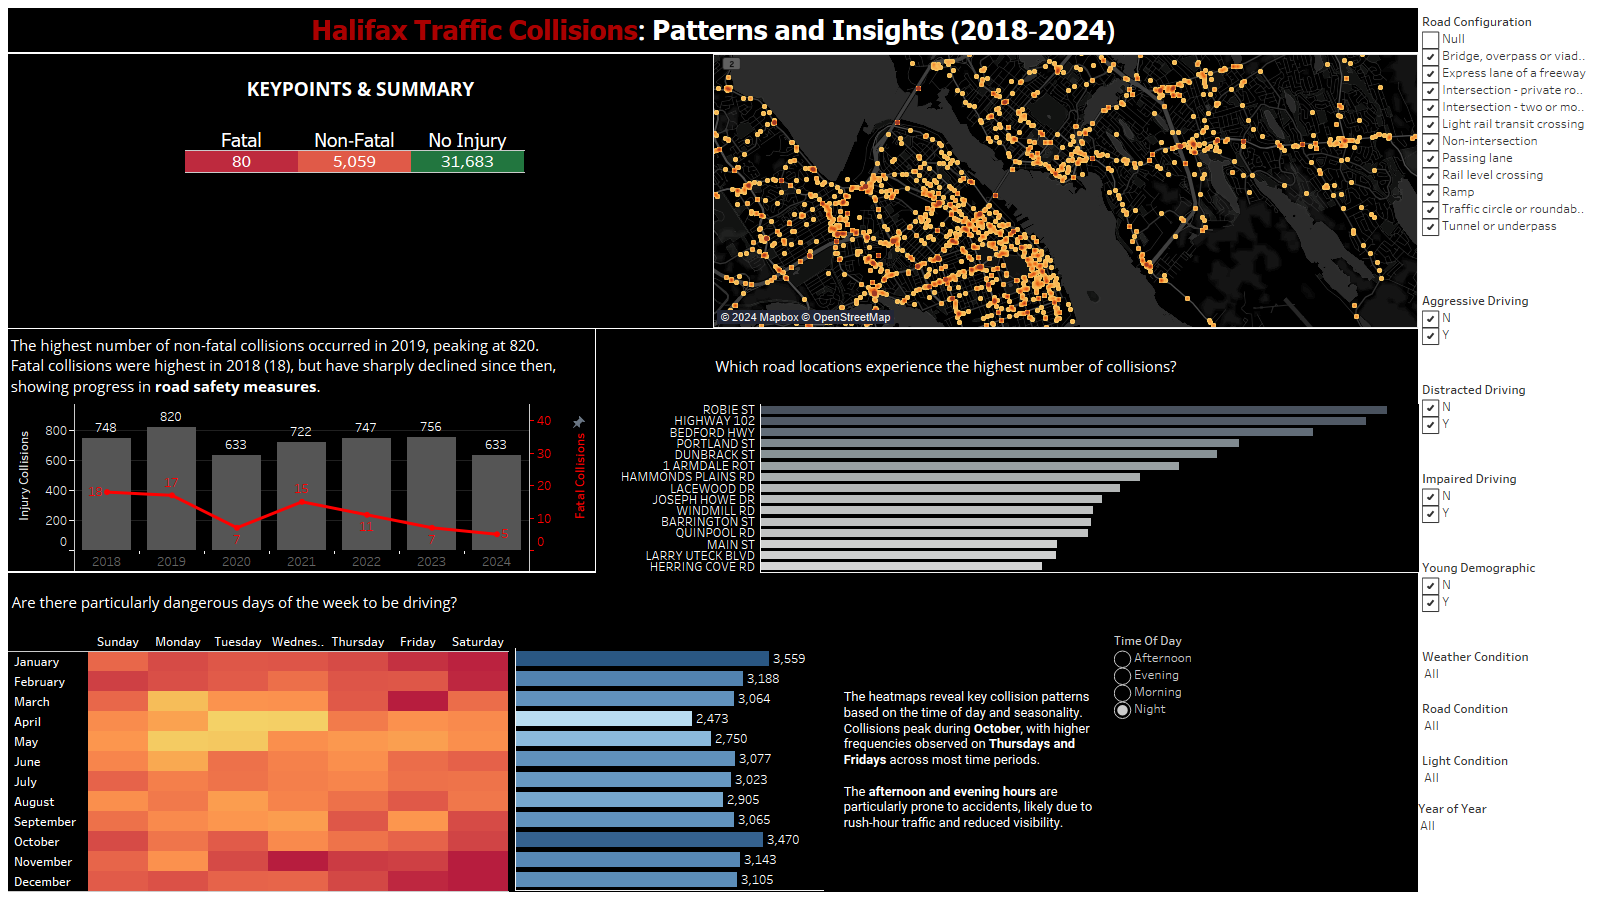

This screenshot's page, from the dashboard's own definition file:
{"tool":"tableau","page":{"name":"Dashboard 1","canvas":[1600,900],"ordinal":0},"visuals":[{"type":"text","box":[8,8,1410,46]},{"type":"filter","title":"1.3 Collision Overview (Map)","param":"[federated.0cik4m21enay4v1gyq1ab0pwhj47].[none:Road Configuration:nk]","box":[1418,8,174,279]},{"type":"text","box":[8,54,705,274]},{"type":"worksheet","title":"1.3 Collision Overview (Map)","mark":"Heatmap","rows":["Latitude WGS84"],"cols":["Longitude WGS84"],"box":[713,54,705,274]},{"type":"worksheet","title":"1.1 Collision Overview ( Severity)","mark":"Automatic","cols":["Collision Severity"],"box":[185,130,407,55]},{"type":"filter","title":"1.3 Collision Overview (Map)","param":"[federated.0cik4m21enay4v1gyq1ab0pwhj47].[none:Aggressive Driving:nk]","box":[1418,287,174,89]},{"type":"text","box":[8,328,588,76]},{"type":"text","box":[596,328,822,76]},{"type":"filter","title":"1.3 Collision Overview (Map)","param":"[federated.0cik4m21enay4v1gyq1ab0pwhj47].[none:Distracted Driving:nk]","box":[1418,376,174,89]},{"type":"worksheet","title":"1.2. Collision Overview (Annual Trend)","mark":"Automatic","rows":["Calculation_1740641279716175874","Calculation_1740641279715938305"],"cols":["Year"],"box":[8,404,588.1,168]},{"type":"worksheet","title":"3. Collisions by Road Location","mark":"Automatic","rows":["Road Location"],"cols":["Calculation_1740641279716429827"],"box":[596.1,404,821.9,168]},{"type":"filter","title":"1.3 Collision Overview (Map)","param":"[federated.0cik4m21enay4v1gyq1ab0pwhj47].[none:Impaired Driving:nk]","box":[1418,465,174,89]},{"type":"filter","title":"1.3 Collision Overview (Map)","param":"[federated.0cik4m21enay4v1gyq1ab0pwhj47].[none:Young Demographic:nk]","box":[1418,554,174,89]},{"type":"text","box":[8,572,1410,59]},{"type":"worksheet","title":"2.1. Temporal Patterns (Day Collision Frequency)","mark":"Automatic","rows":["Calculation_1001487991045566466"],"cols":["Calculation_1740641279739027461"],"box":[8,631,833,261]},{"type":"text","box":[841,631,273,261]},{"type":"filter","title":"2.1. Temporal Patterns (Day Collision Frequency)","param":"[federated.0cik4m21enay4v1gyq1ab0pwhj47].[none:TimeOfDay:nk]","box":[1114,631,304,261]},{"type":"filter","title":"1.3 Collision Overview (Map)","param":"[federated.0cik4m21enay4v1gyq1ab0pwhj47].[none:Weather Condition:nk]","box":[1418,643,174,52]},{"type":"worksheet","title":"2.2. Collisions by Month","mark":"Automatic","rows":["Calculation_1001487991045566466"],"cols":["Calculation_1740641279716429827"],"box":[515,648,308,242]},{"type":"filter","title":"1.3 Collision Overview (Map)","param":"[federated.0cik4m21enay4v1gyq1ab0pwhj47].[none:Road Condition:nk]","box":[1418,695,174,52]},{"type":"filter","title":"1.3 Collision Overview (Map)","param":"[federated.0cik4m21enay4v1gyq1ab0pwhj47].[none:Light Condition:nk]","box":[1418,747,174,52]},{"type":"filter","title":"1.3 Collision Overview (Map)","param":"[federated.0cik4m21enay4v1gyq1ab0pwhj47].[yr:Year:ok]","box":[1418,799,174,44]}]}

Visuals, with their boxes in screenshot pixels (x1, y1, x2, y2), scaled from the page's 1600x900 canvas onto the 1600x900 screenshot:
text: 8, 8, 1418, 54
"1.3 Collision Overview (Map)" filter: 1418, 8, 1592, 287
text: 8, 54, 713, 328
"1.3 Collision Overview (Map)" worksheet (Heatmap marks): 713, 54, 1418, 328
"1.1 Collision Overview ( Severity)" worksheet: 185, 130, 592, 185
"1.3 Collision Overview (Map)" filter: 1418, 287, 1592, 376
text: 8, 328, 596, 404
text: 596, 328, 1418, 404
"1.3 Collision Overview (Map)" filter: 1418, 376, 1592, 465
"1.2. Collision Overview (Annual Trend)" worksheet: 8, 404, 596, 572
"3. Collisions by Road Location" worksheet: 596, 404, 1418, 572
"1.3 Collision Overview (Map)" filter: 1418, 465, 1592, 554
"1.3 Collision Overview (Map)" filter: 1418, 554, 1592, 643
text: 8, 572, 1418, 631
"2.1. Temporal Patterns (Day Collision Frequency)" worksheet: 8, 631, 841, 892
text: 841, 631, 1114, 892
"2.1. Temporal Patterns (Day Collision Frequency)" filter: 1114, 631, 1418, 892
"1.3 Collision Overview (Map)" filter: 1418, 643, 1592, 695
"2.2. Collisions by Month" worksheet: 515, 648, 823, 890
"1.3 Collision Overview (Map)" filter: 1418, 695, 1592, 747
"1.3 Collision Overview (Map)" filter: 1418, 747, 1592, 799
"1.3 Collision Overview (Map)" filter: 1418, 799, 1592, 843
